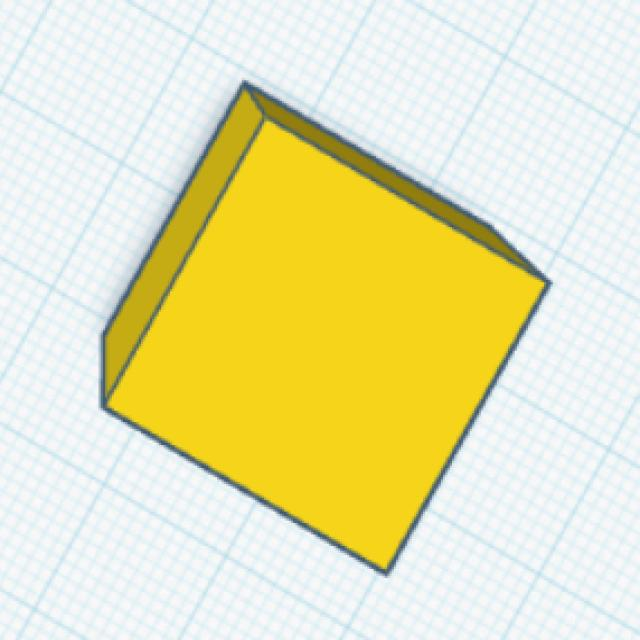cube: (95, 76, 556, 582)
